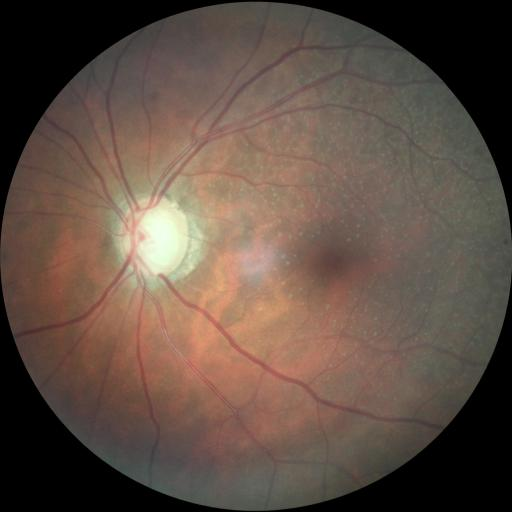Optic Cup: (130, 208, 179, 269)
Optic Disc: (118, 194, 187, 278)
